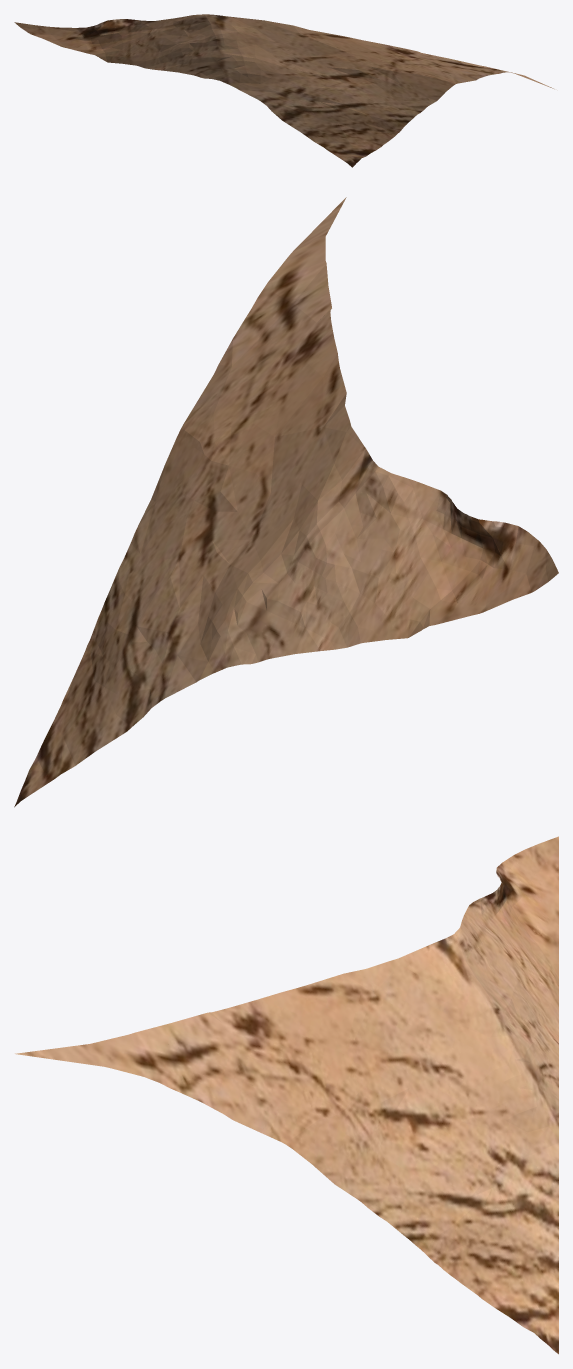
3 renders of one model, top to bottom at view 1: azimuth 30°, elevation 25°; view 2: azimuth 150°, elevation 25°; view 3: azimuth 270°, elevation 25°, orthographic. The views are drawn at different scales.
Bounding box in the file's own units: 0.7801 × 0.5027 × 0.8259.
1 material, 1 textured.
